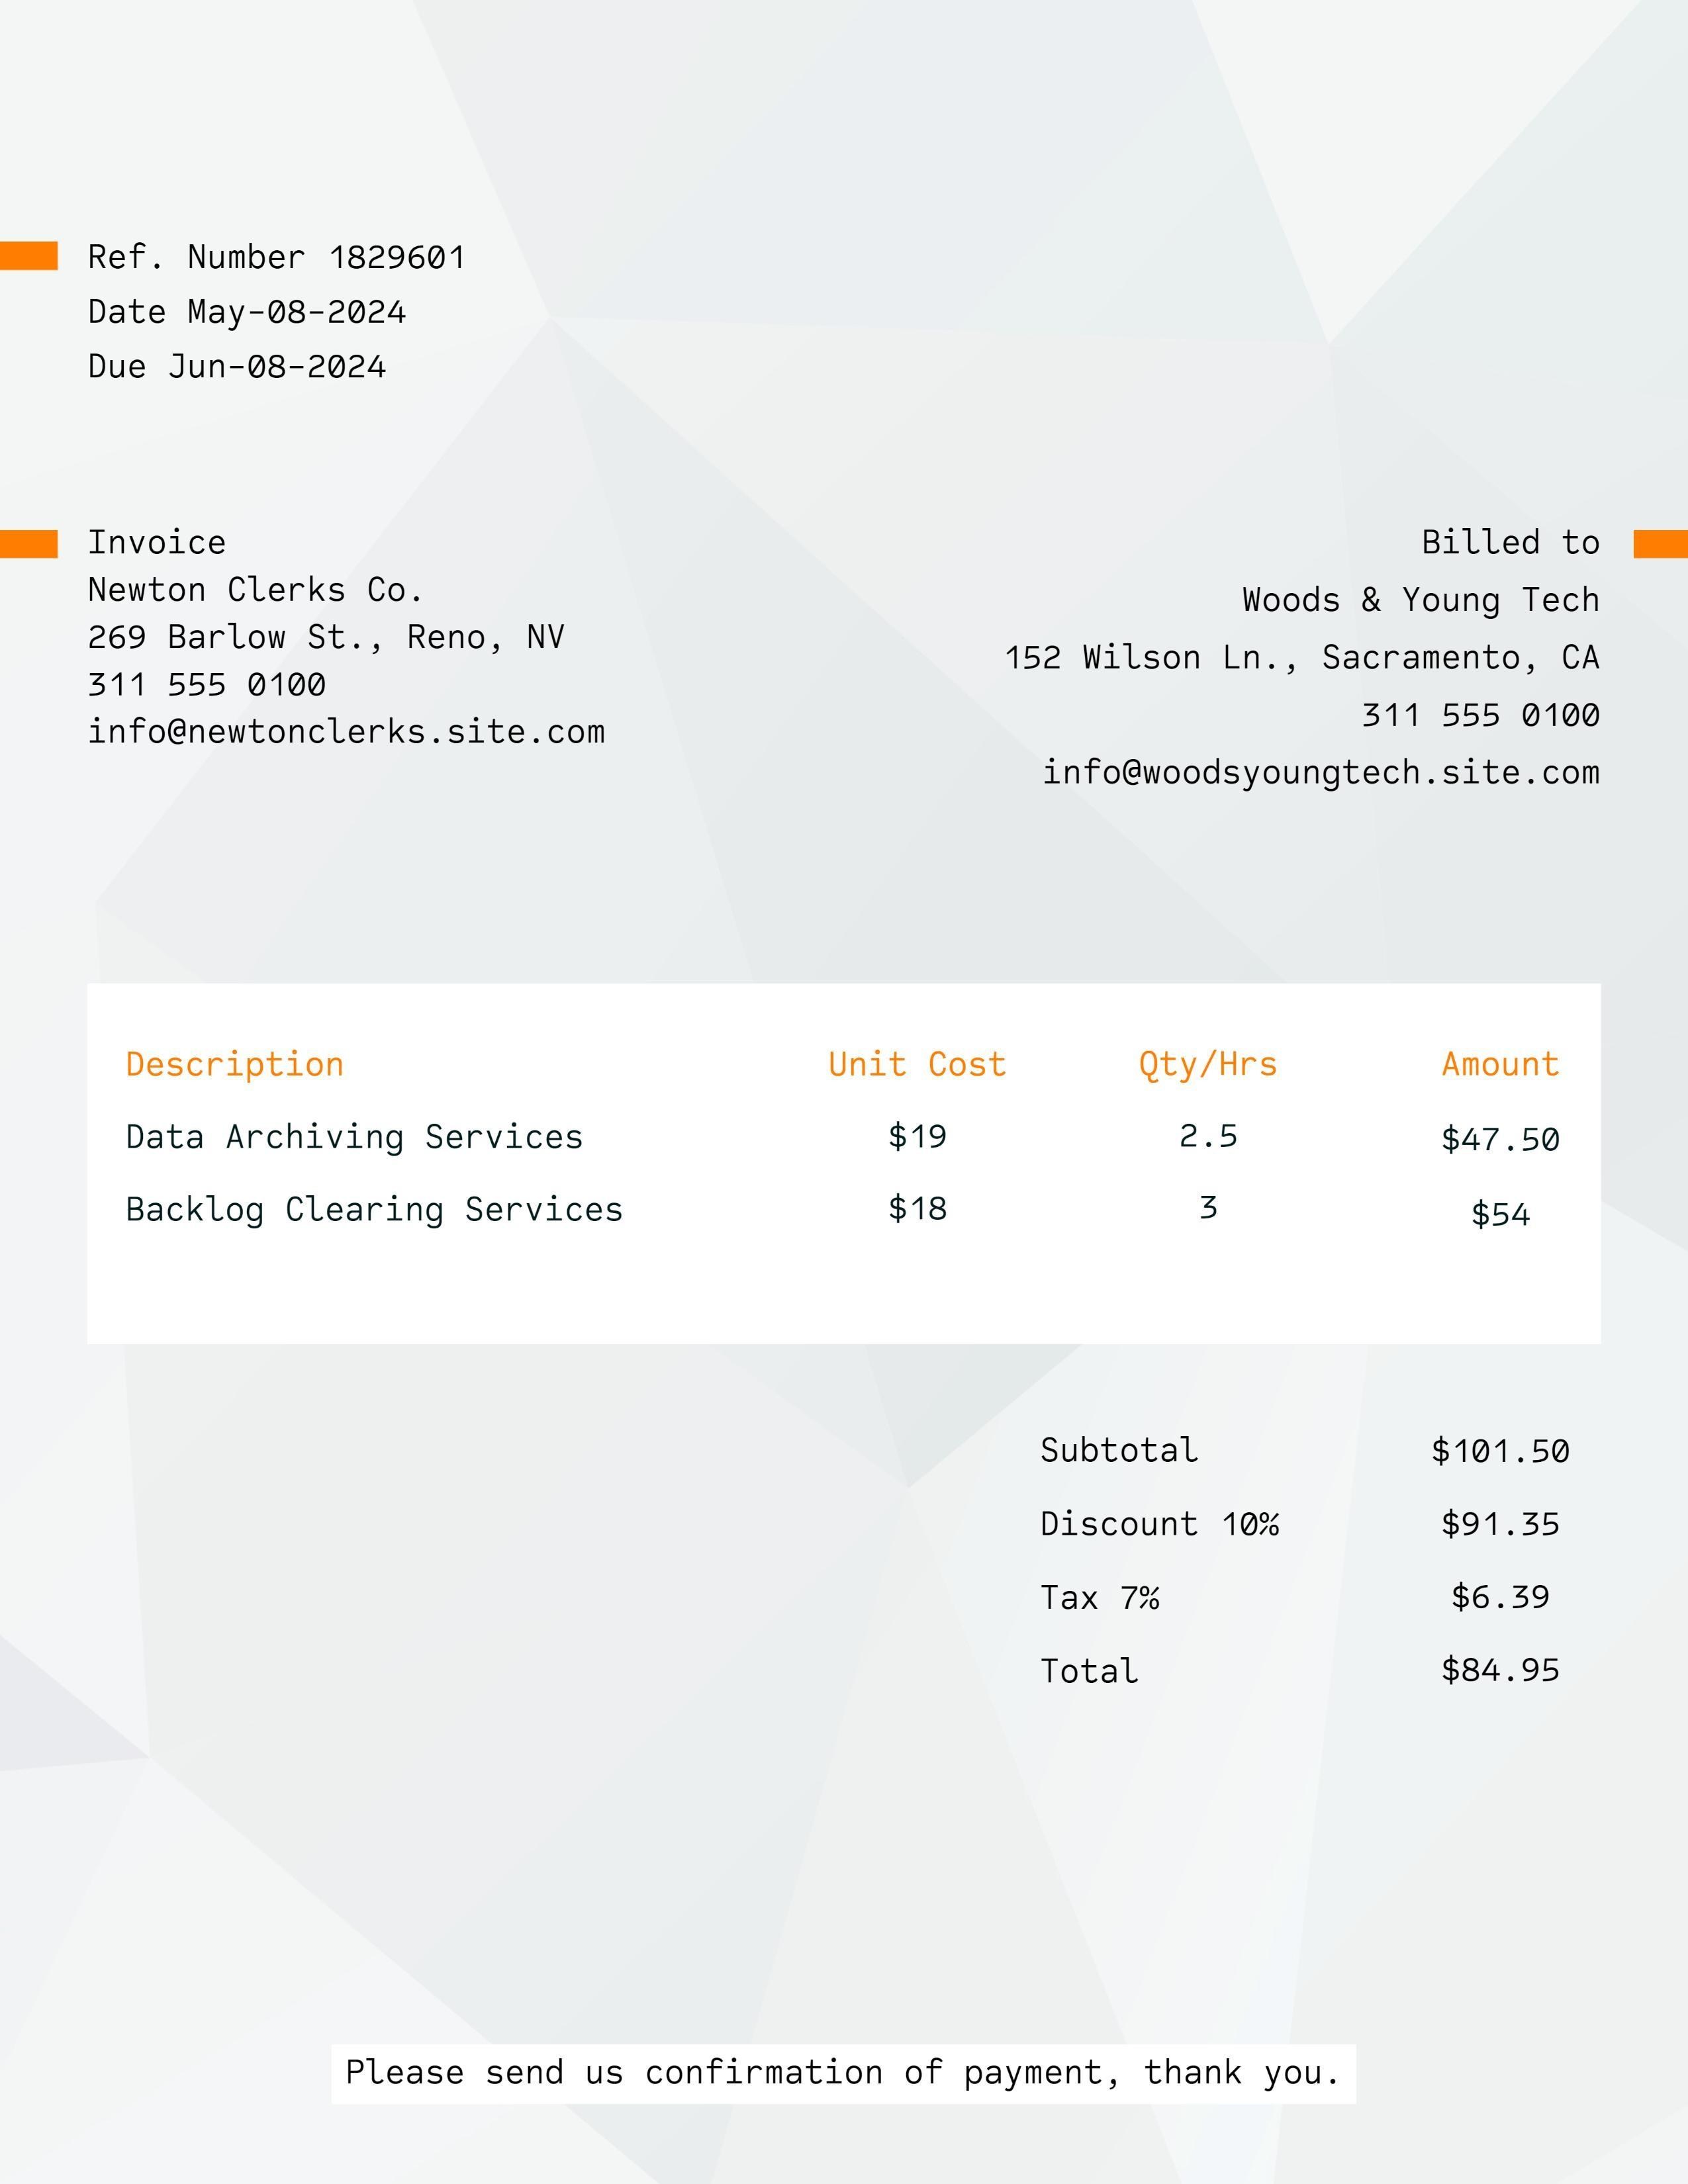ROI: (110, 1026, 1575, 1266), (998, 512, 1610, 791), (1021, 1418, 1576, 1712), (73, 562, 612, 753), (74, 229, 475, 399)
